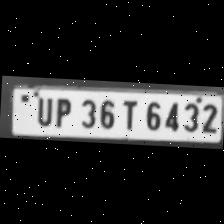2: (198, 99, 218, 133)
3: (75, 94, 98, 128), (179, 98, 199, 132)
4: (161, 98, 181, 132)
6: (94, 96, 118, 130), (140, 97, 162, 131)
P: (50, 95, 74, 128)
T: (116, 96, 140, 130)
U: (31, 94, 54, 127)
